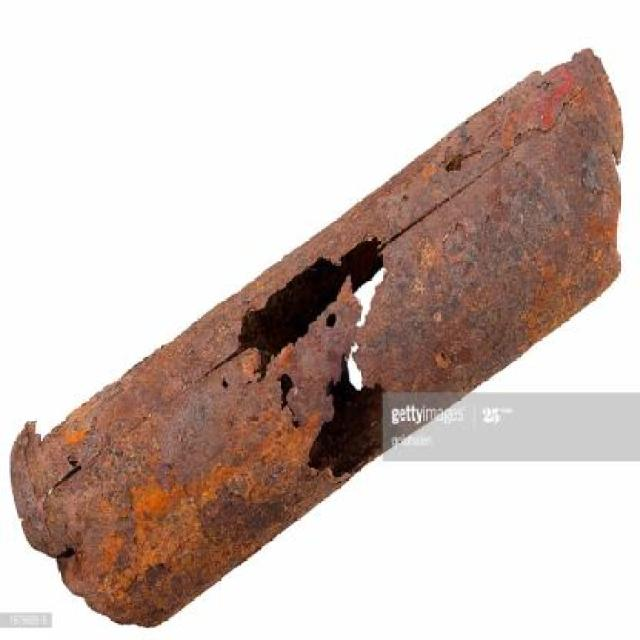corrosion: (12, 46, 626, 634)
